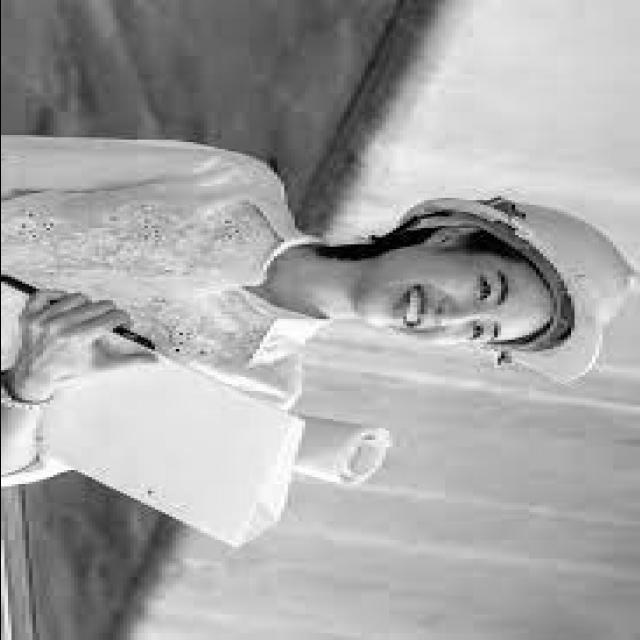construction helmet: (396, 198, 632, 386)
